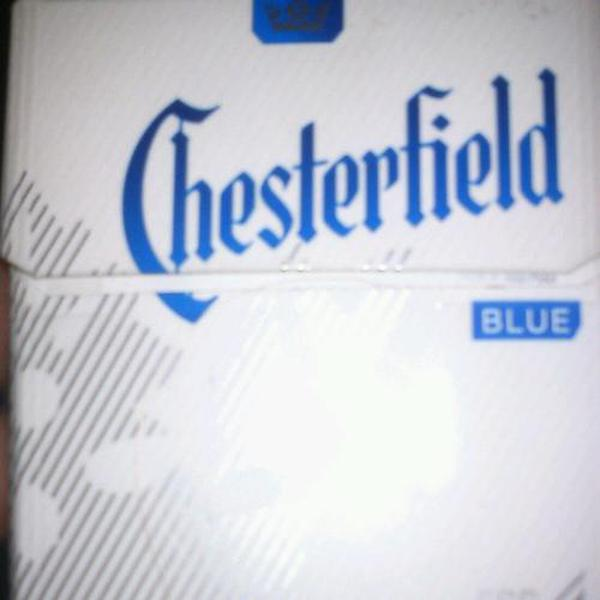chesterfield_blue: (20, 4, 594, 599)
